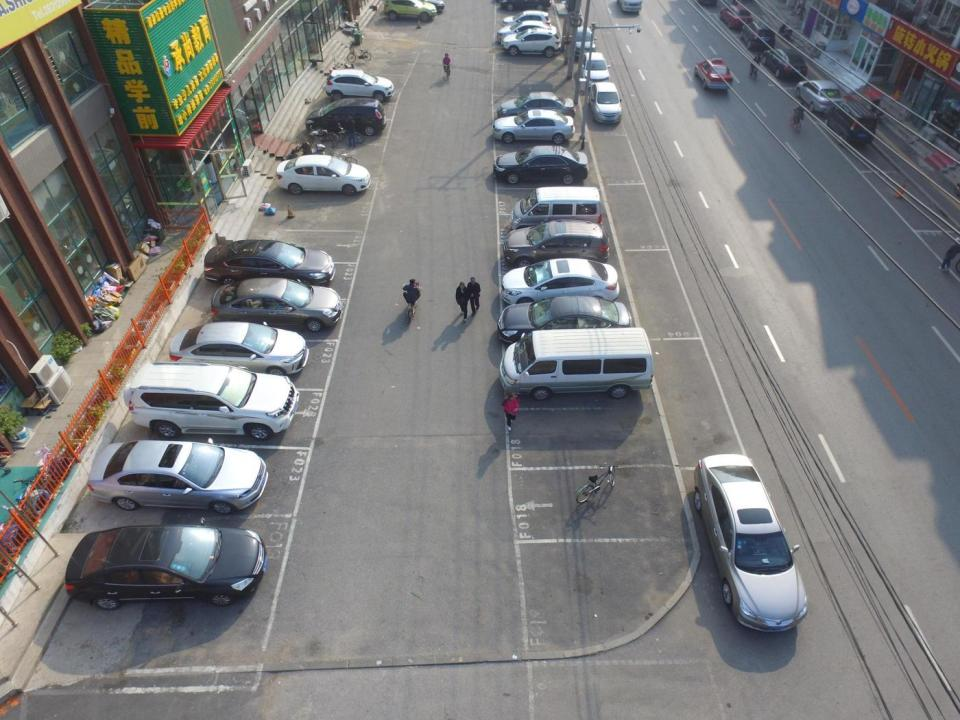car: (693, 453, 810, 634), (64, 522, 267, 610), (87, 438, 268, 515), (168, 319, 310, 378), (497, 294, 632, 348), (212, 277, 341, 332), (203, 239, 335, 288), (499, 257, 620, 307), (276, 154, 370, 196), (493, 146, 589, 185), (490, 108, 576, 145), (497, 92, 575, 121), (324, 70, 393, 102), (796, 79, 844, 113), (496, 20, 558, 44), (588, 81, 622, 124), (762, 47, 807, 79), (695, 58, 732, 91), (382, 0, 437, 22), (580, 52, 610, 87), (502, 10, 551, 31), (569, 26, 596, 59), (719, 5, 754, 29), (501, 0, 551, 12)
van: (122, 360, 300, 438), (499, 328, 654, 402), (502, 219, 610, 270), (512, 185, 602, 235), (306, 98, 385, 138), (826, 100, 879, 150), (501, 28, 561, 58), (740, 20, 775, 50)
